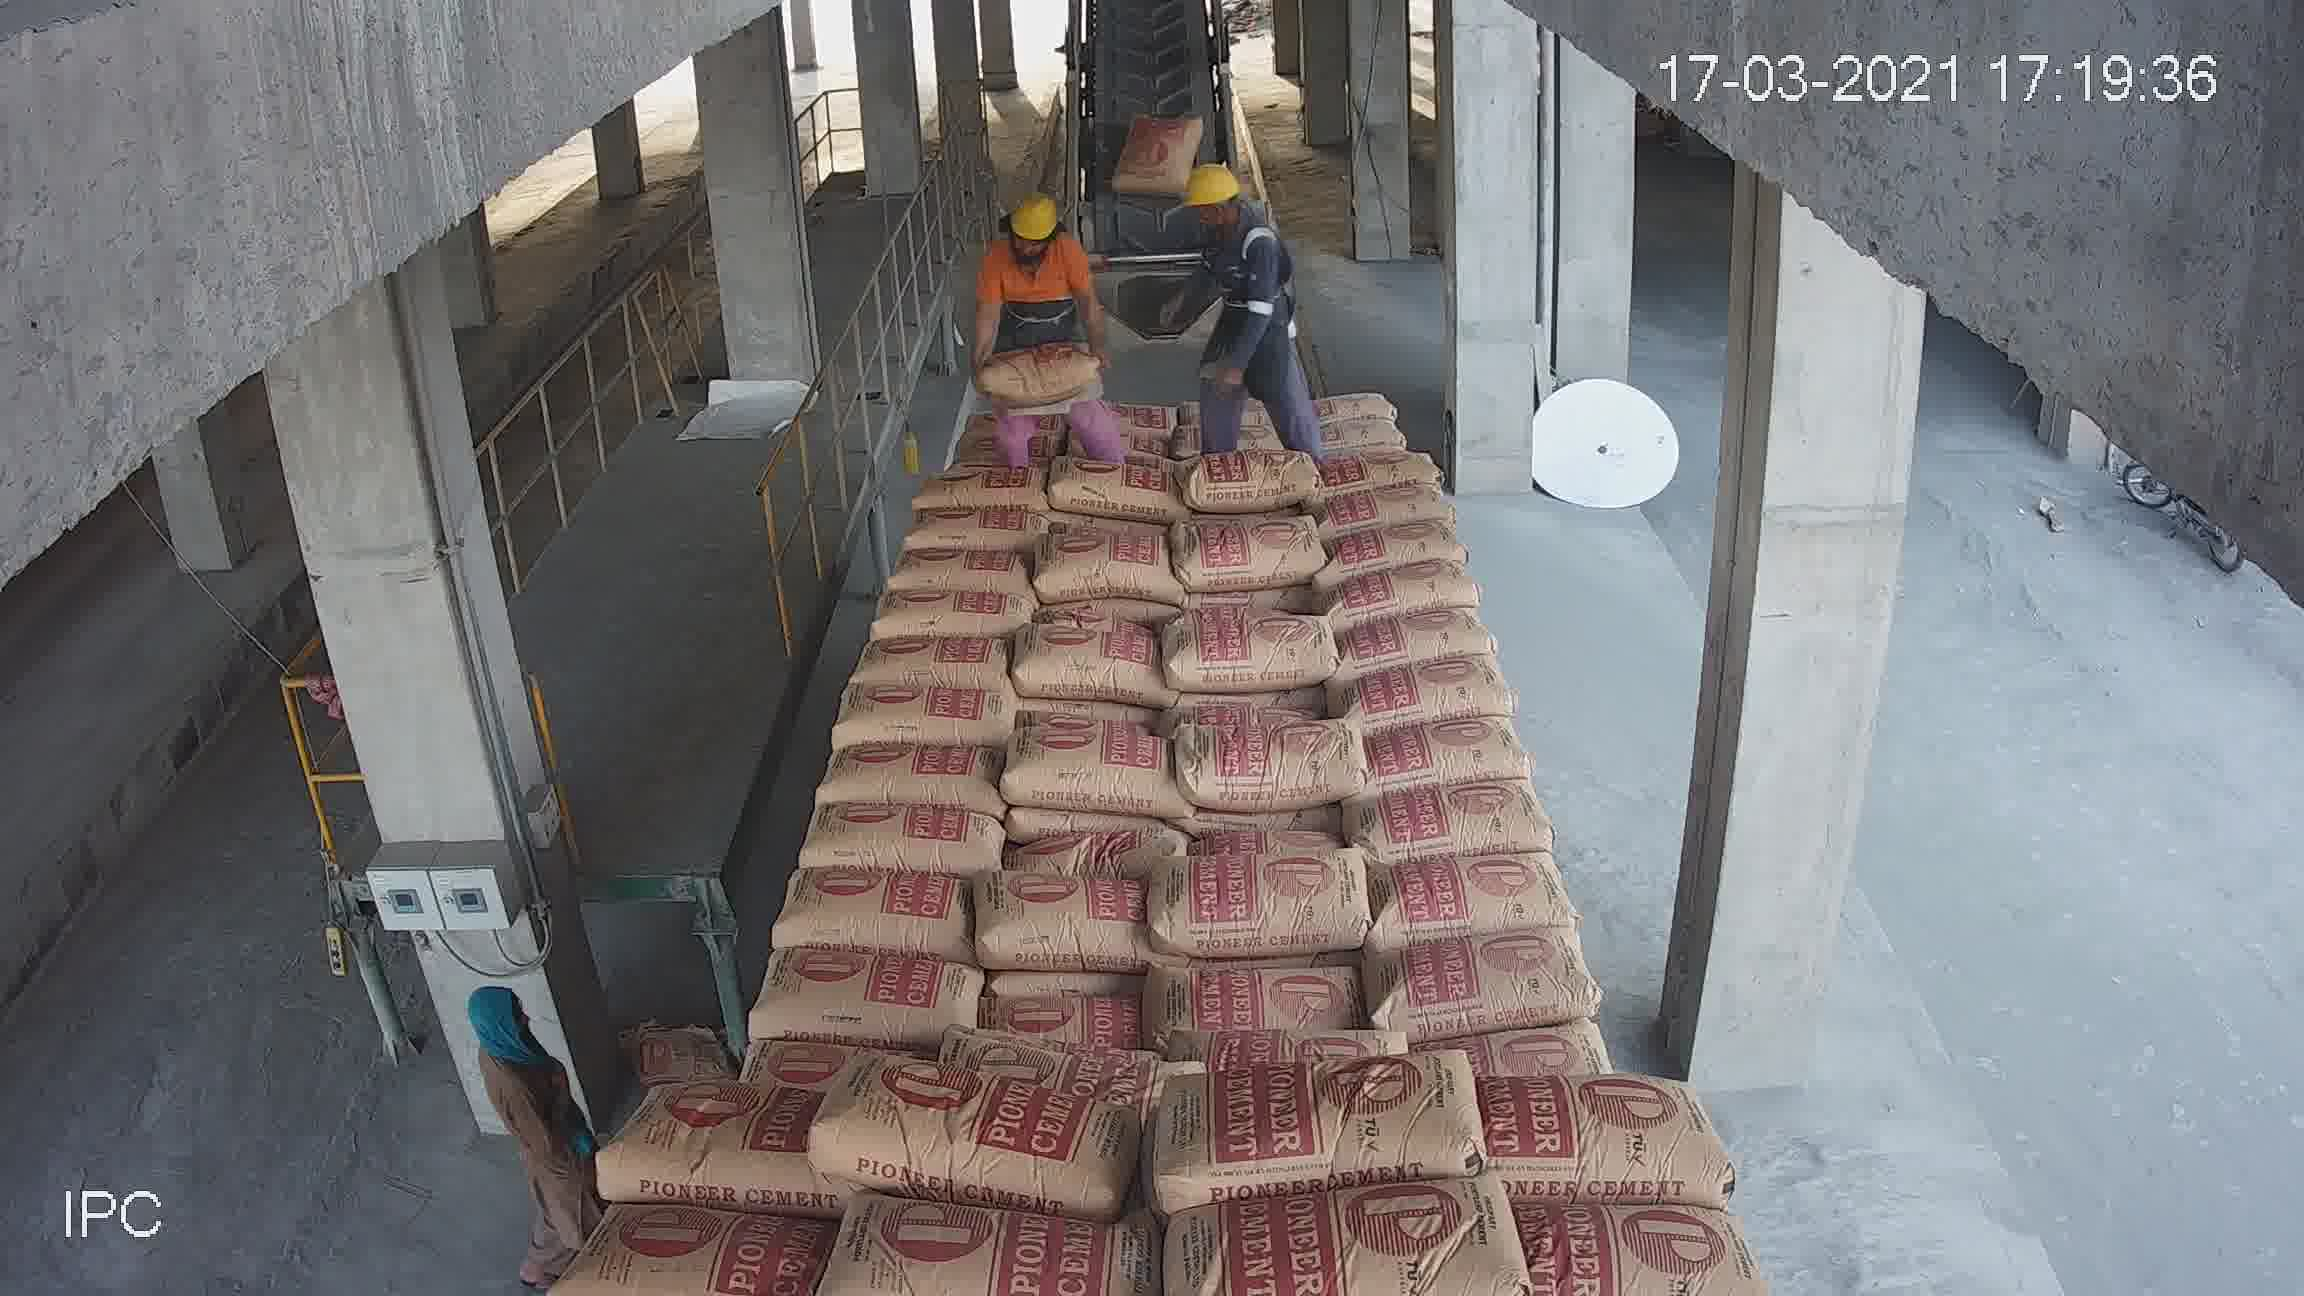bag: (1105, 343, 1237, 464), (1100, 33, 1203, 131)
bag_h: (1133, 1043, 1487, 1199), (794, 1060, 1171, 1195), (1157, 1177, 1518, 1287), (1461, 1067, 1728, 1212), (1374, 899, 1586, 1038), (834, 1201, 1165, 1280), (1506, 1196, 1777, 1293), (1146, 855, 1375, 961), (597, 1082, 799, 1201), (739, 945, 983, 1041), (752, 864, 980, 959), (965, 859, 1149, 976), (538, 1209, 802, 1285), (1163, 1010, 1434, 1079), (1367, 850, 1563, 942), (1337, 717, 1518, 817), (1184, 722, 1375, 813), (1364, 639, 1514, 744), (1133, 957, 1367, 1024), (798, 802, 1000, 878), (1006, 737, 1188, 821), (1161, 663, 1367, 734), (1369, 766, 1540, 851), (817, 684, 1003, 756), (945, 1032, 1195, 1086), (1005, 658, 1184, 733), (807, 739, 1003, 804), (1002, 809, 1184, 873), (957, 987, 1157, 1046), (1173, 609, 1323, 684), (1472, 1003, 1617, 1073), (1369, 600, 1491, 680), (994, 619, 1174, 673), (1351, 567, 1487, 627), (873, 581, 992, 649), (1351, 472, 1456, 540), (889, 503, 1002, 565), (1017, 589, 1166, 633), (881, 552, 997, 609), (1353, 521, 1470, 576), (1324, 396, 1427, 454), (847, 623, 946, 684), (908, 464, 1010, 522), (1340, 446, 1453, 487), (1158, 517, 1230, 578), (923, 426, 992, 475)
belt: (1043, 27, 1275, 388)
